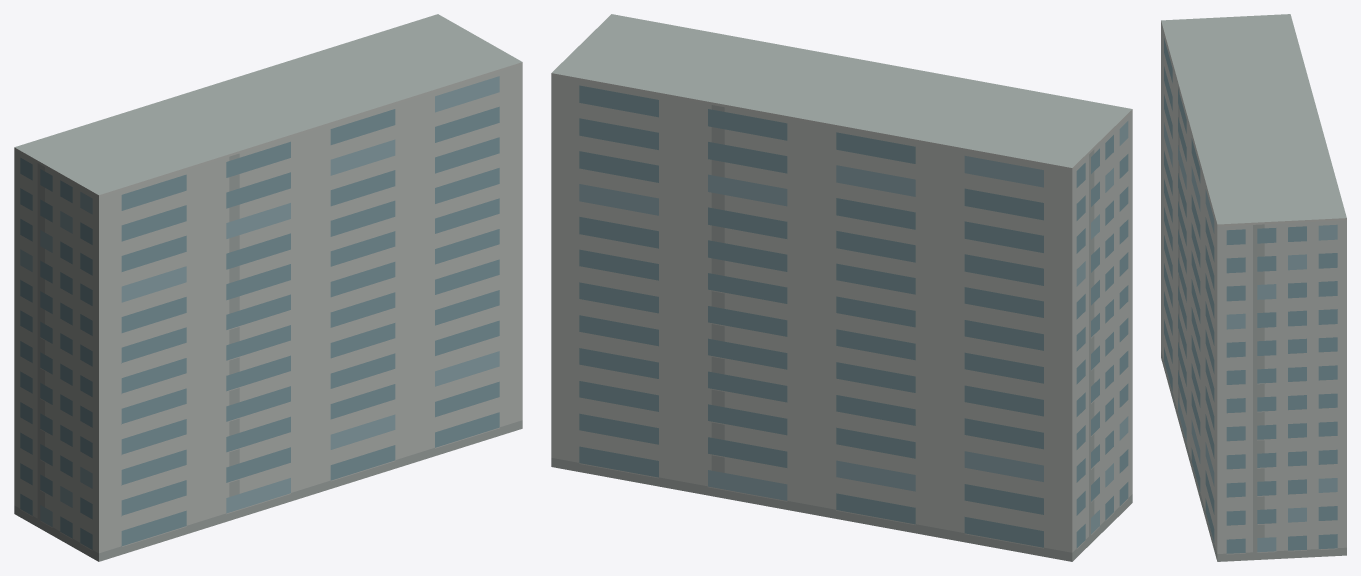
Rendered from residential-4825c59b-6df0-4965-8837-36cb9206113c.glb.
The picture shows the model from 3 angles, left to right: view 1: azimuth 30°, elevation 25°; view 2: azimuth 150°, elevation 25°; view 3: azimuth 270°, elevation 25°; orthographic projection. The views are drawn at different scales.
Parts seen in each view (by area): view 1: residential-4825c59b-6df0-4965-8837-36cb9206113c.tmp; view 2: residential-4825c59b-6df0-4965-8837-36cb9206113c.tmp; view 3: residential-4825c59b-6df0-4965-8837-36cb9206113c.tmp.
Boxes of the visible parts, left/top/right/bottom form: residential-4825c59b-6df0-4965-8837-36cb9206113c.tmp: left=14, top=14, right=522, bottom=561; residential-4825c59b-6df0-4965-8837-36cb9206113c.tmp: left=551, top=14, right=1132, bottom=561; residential-4825c59b-6df0-4965-8837-36cb9206113c.tmp: left=1161, top=14, right=1346, bottom=561.
Size of the model in its own units: 49.5 by 37 by 18.48.
